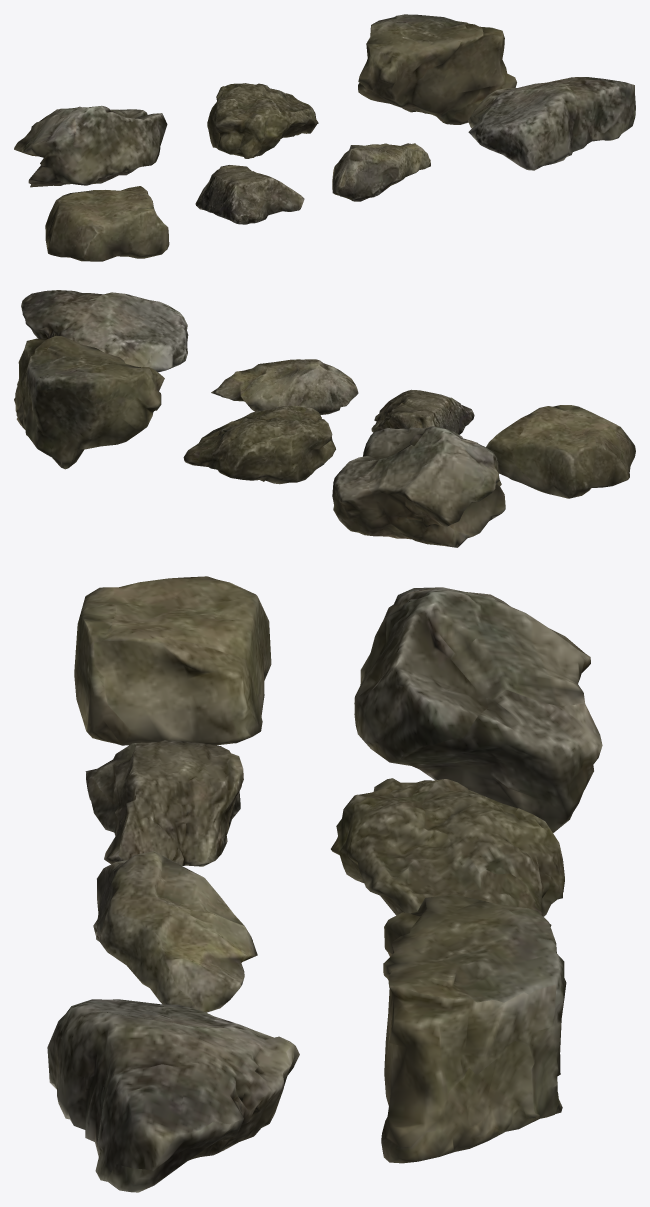
Rendered from rock_moss_set_02.glb.
3 renders of one model, top to bottom at view 1: azimuth 30°, elevation 25°; view 2: azimuth 150°, elevation 25°; view 3: azimuth 270°, elevation 25°, orthographic. The views are drawn at different scales.
Visible parts, largest first — view 1: rock_moss_set_02_rock08; view 2: rock_moss_set_02_rock08; view 3: rock_moss_set_02_rock08.
Boxes of the visible parts, bbox=[...] form: rock_moss_set_02_rock08: bbox=[14, 14, 635, 261]; rock_moss_set_02_rock08: bbox=[14, 290, 635, 547]; rock_moss_set_02_rock08: bbox=[47, 576, 602, 1192].
Bounding box in the file's own units: 8.28 × 1.37 × 3.41.
1 material, 1 textured.
